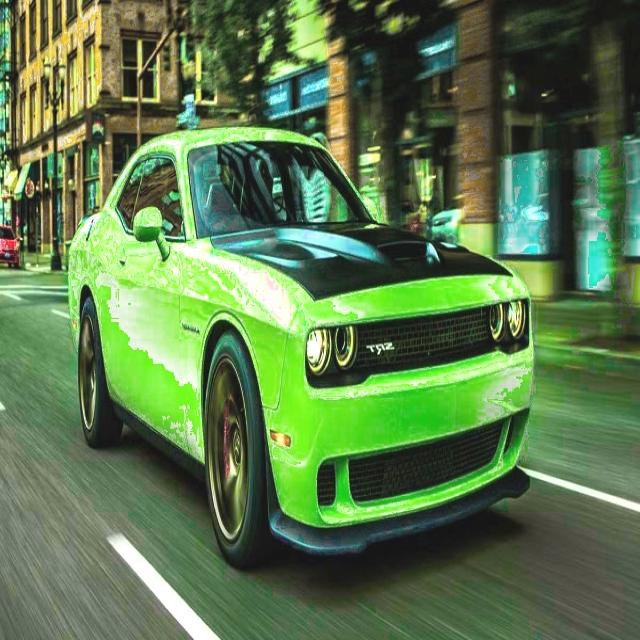green: (62, 128, 550, 574)
